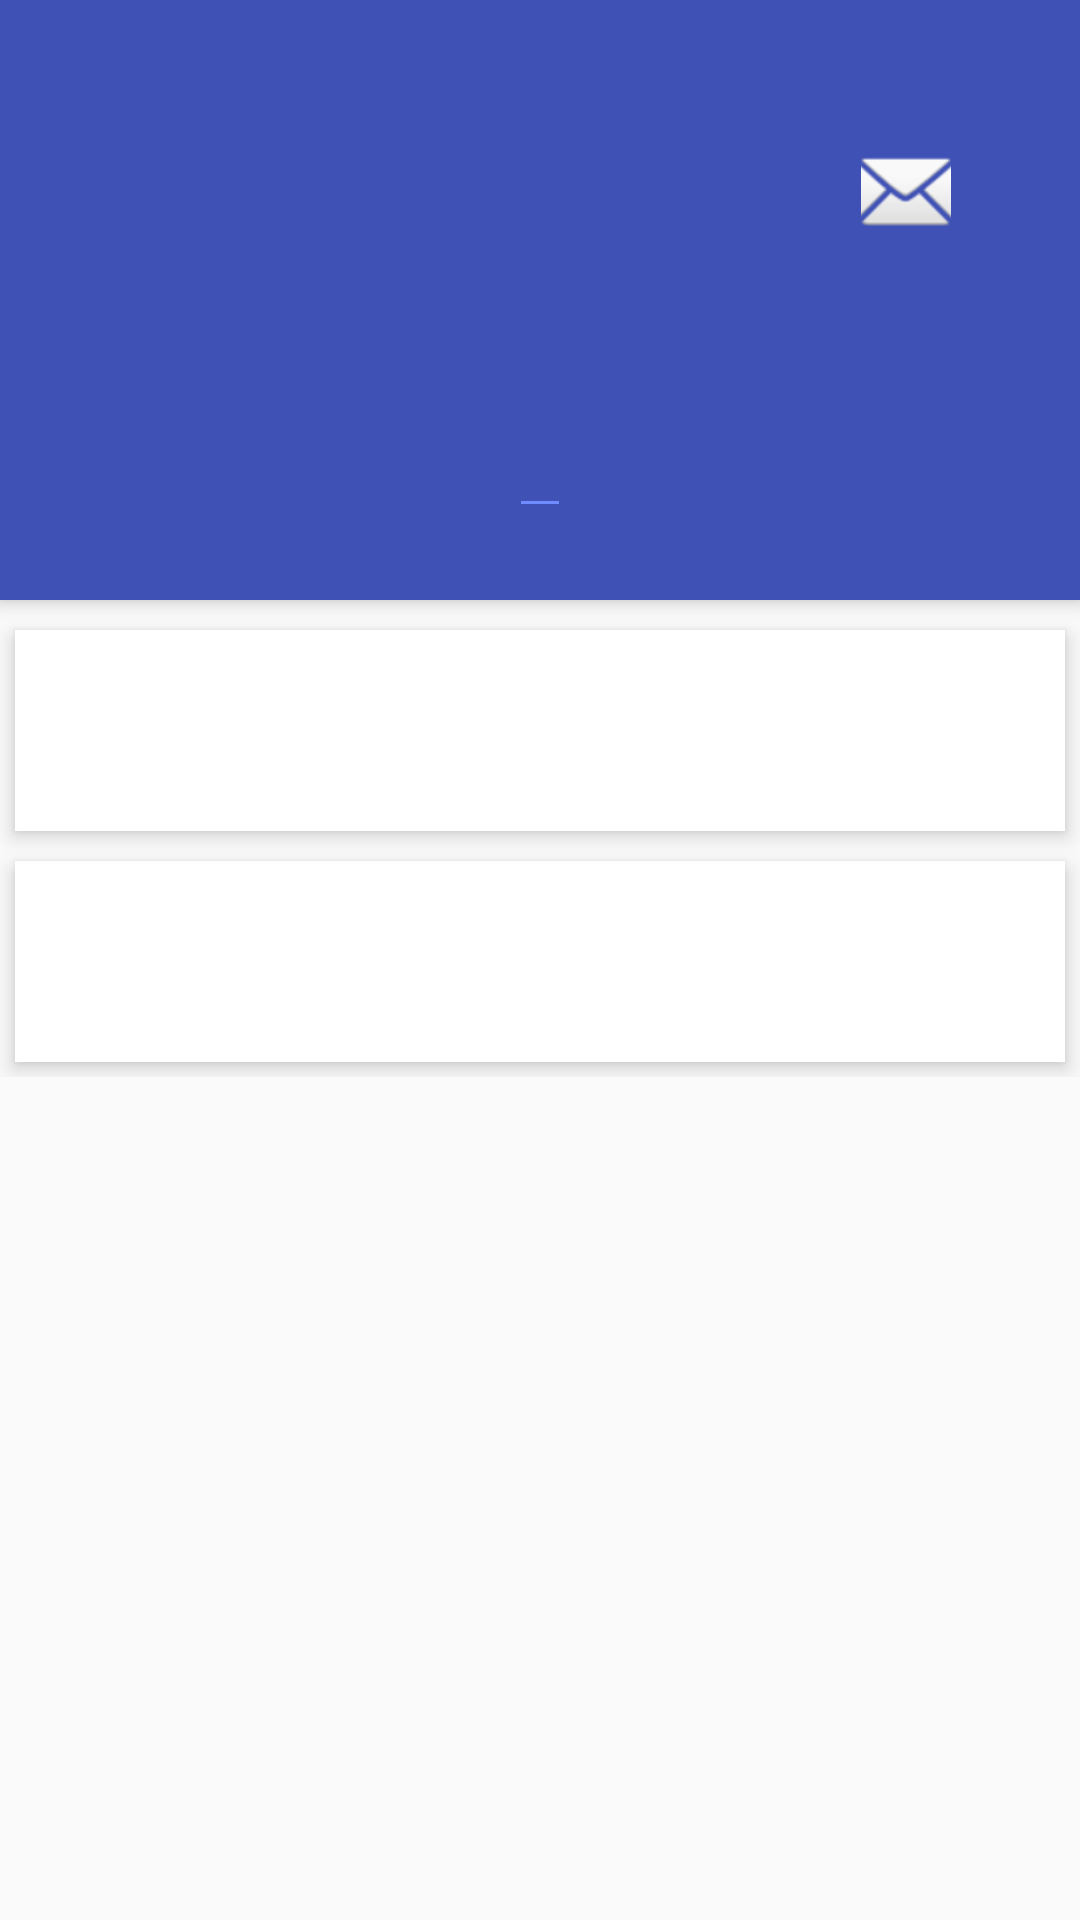

Icon click points for this 1080 x 1920 phone screenshot, format (x=x, y=y):
email: (x=906, y=192)
